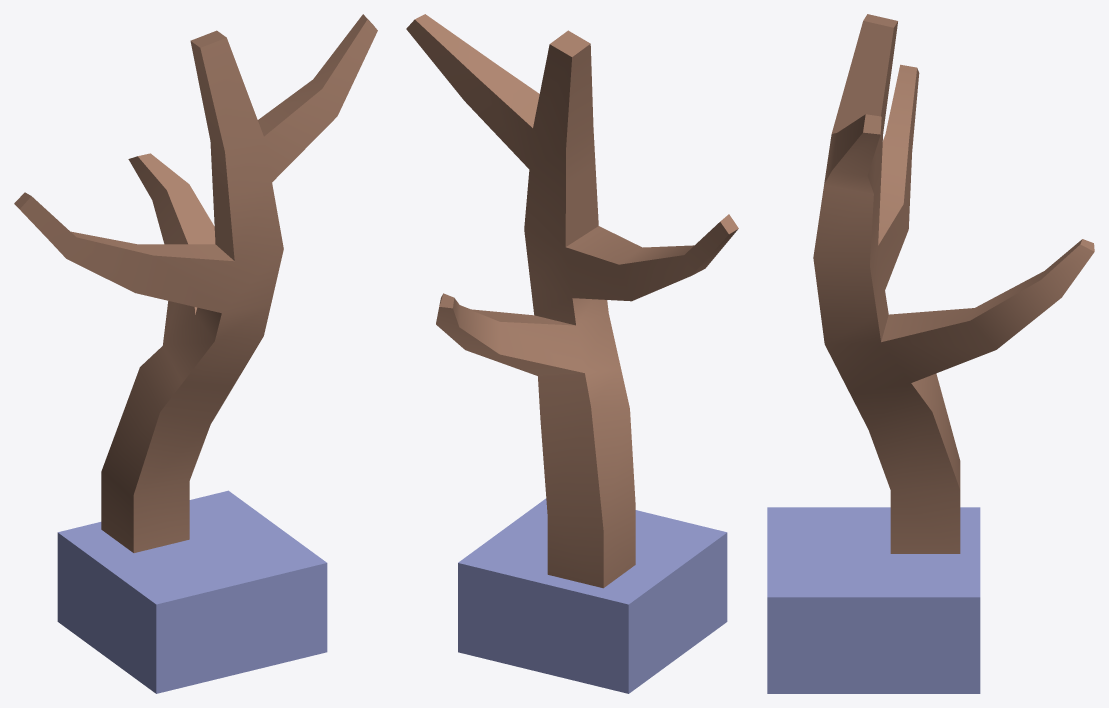
The model's file is treeLarge2.fbx.
3 renders of one model, left to right at view 1: azimuth 30°, elevation 25°; view 2: azimuth 150°, elevation 25°; view 3: azimuth 270°, elevation 25°, orthographic. The views are drawn at different scales.
Parts seen in each view (by area): view 1: treeLarge; view 2: treeLarge; view 3: treeLarge.
Part boxes in pixels (bbox=[...]): treeLarge: bbox=[14, 14, 377, 693]; treeLarge: bbox=[406, 14, 738, 693]; treeLarge: bbox=[767, 14, 1094, 693].
Bounding box in the file's own units: 401 × 666 × 307.
